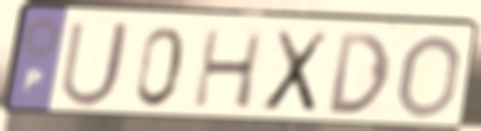0: (133, 25, 189, 109)
D: (327, 29, 393, 117)
H: (190, 26, 268, 112)
O: (393, 32, 465, 121)
U: (56, 18, 135, 111)
X: (258, 27, 333, 116)
